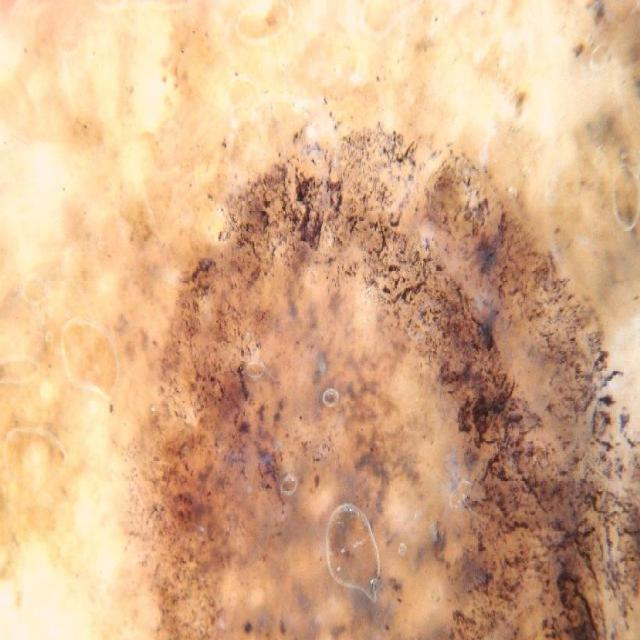Melanoma: (137, 130, 633, 640)
